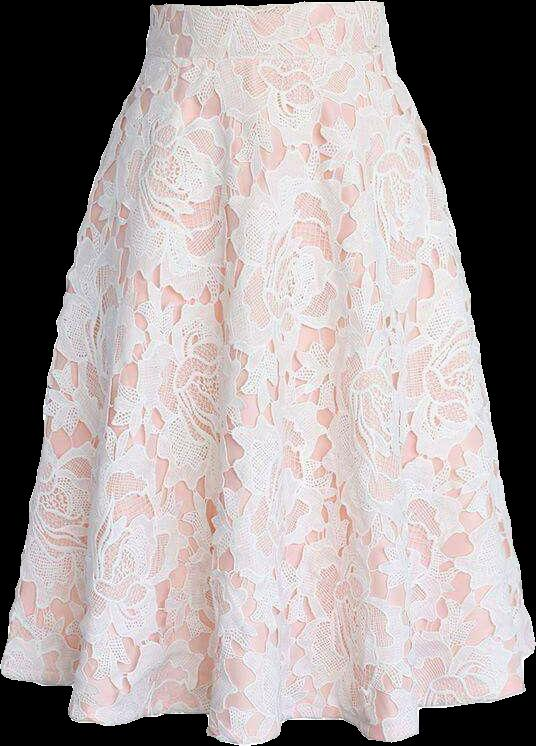Hemline: (0, 666, 528, 745)
Waistline: (143, 47, 392, 66), (151, 0, 383, 12)
